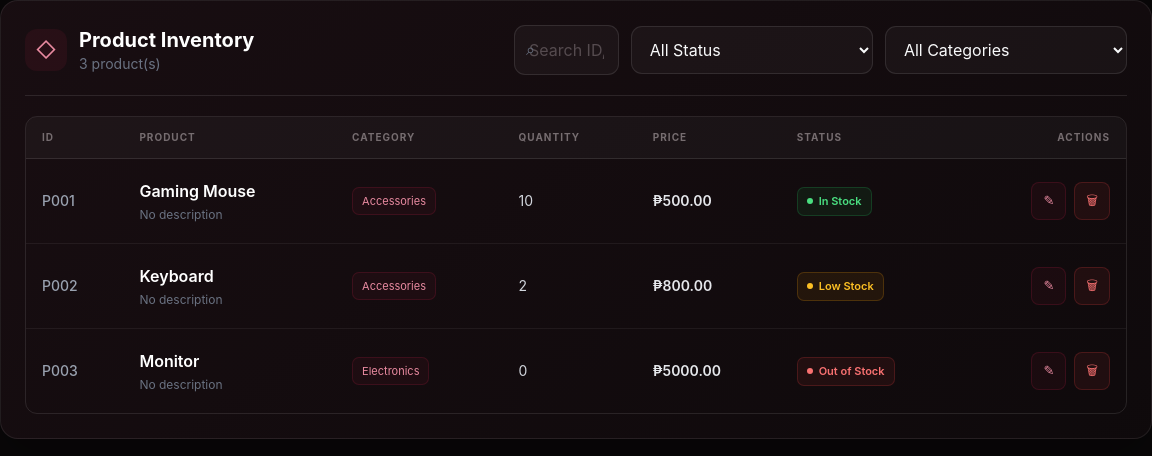
Test: Inventory Management System › should display only In Stock products when the In Stock filter is selected
The width and height of the screenshot is (1152, 456).
Select "In Stock" in the 1st dropdown. click: (752,50)
box: [631, 26, 873, 74]
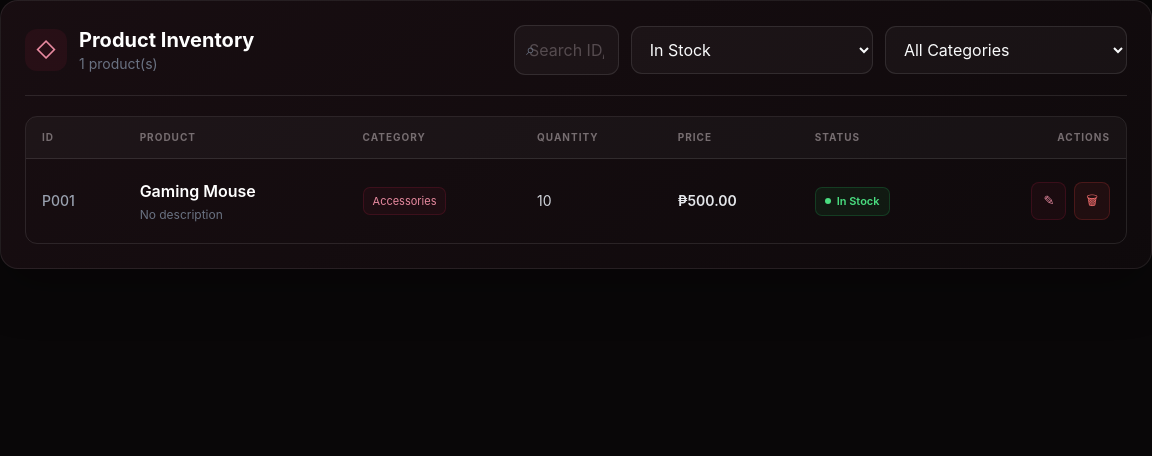
Expected: the text "Gaming Mouse" is shown, [140, 181, 256, 201]
Now the text "Keyboard" is gone
Now the text "Monitor" is gone
